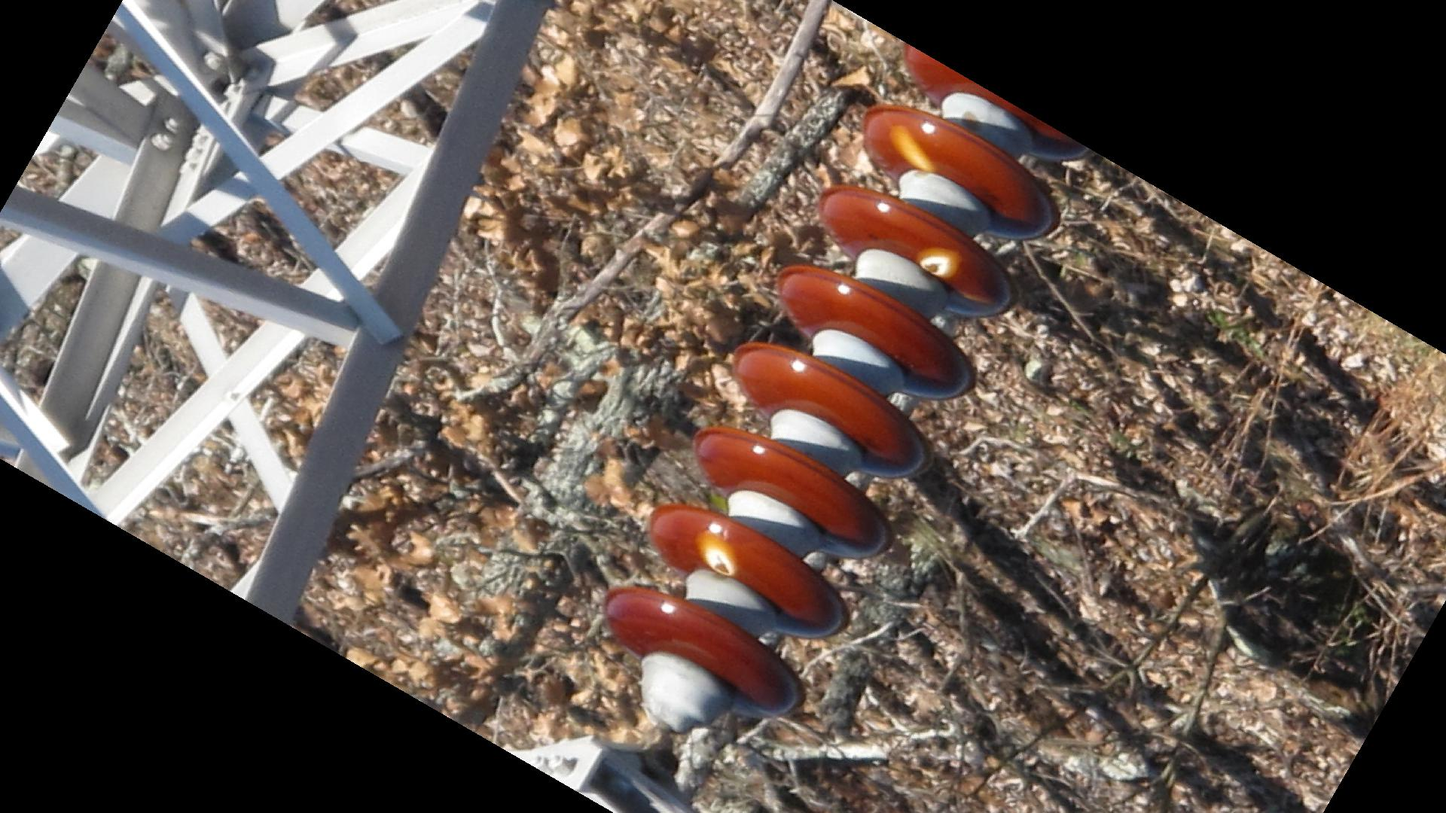insulator: (596, 39, 1084, 726)
insulator_flashover: (693, 527, 743, 580), (886, 121, 936, 173), (918, 250, 956, 281)
